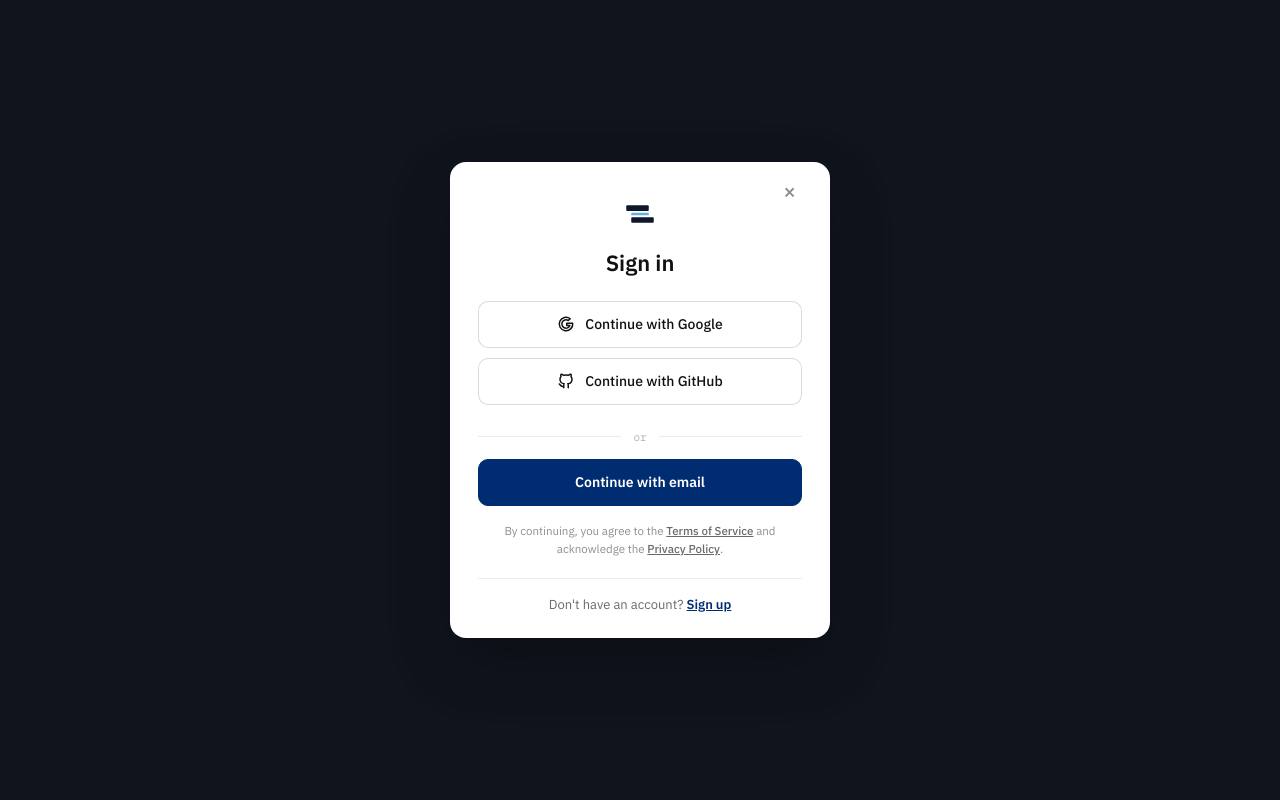
Test: route smoke tests › AuthModal switches to sign up in place, without navigating away
This screenshot has width=1280, height=800.
Click the button "Sign up" at (709, 605), box [686,595,731,614]
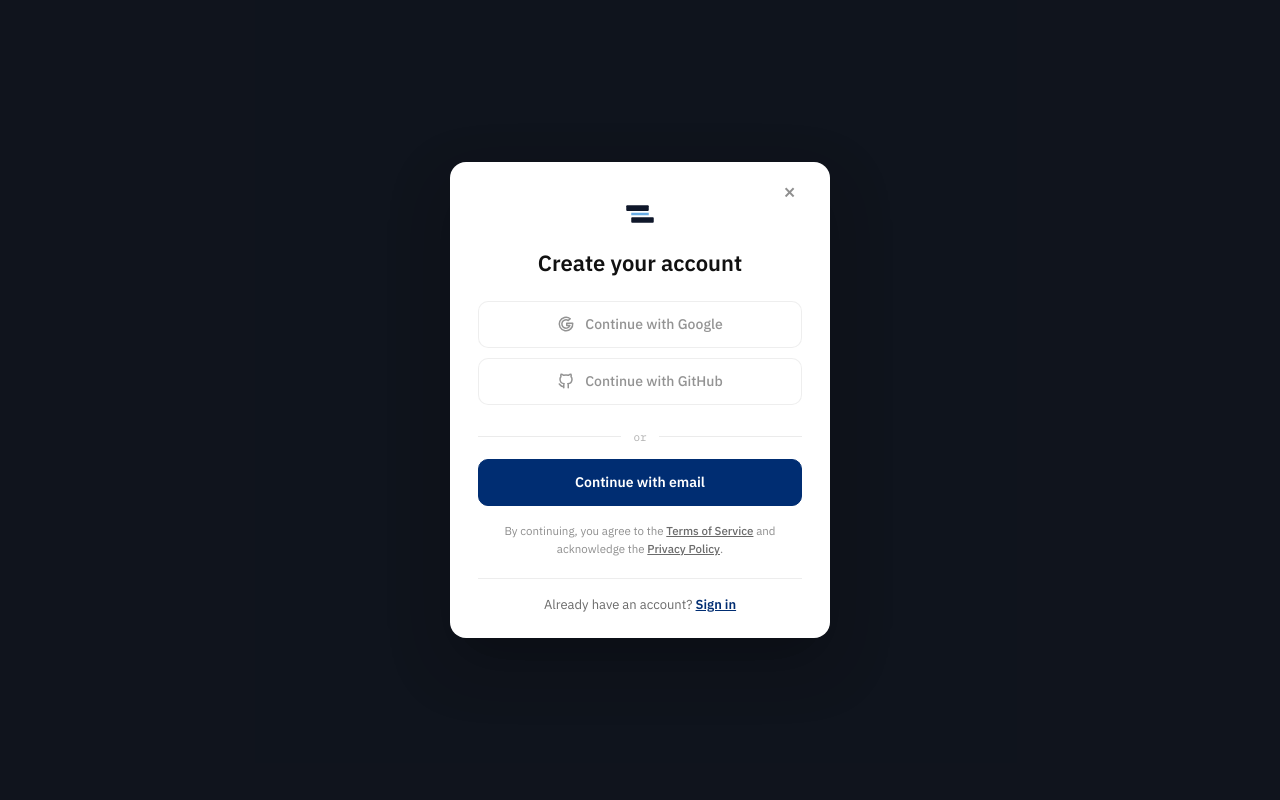
Check: the dialog "Create your account" is shown, box [450,162,830,638]
